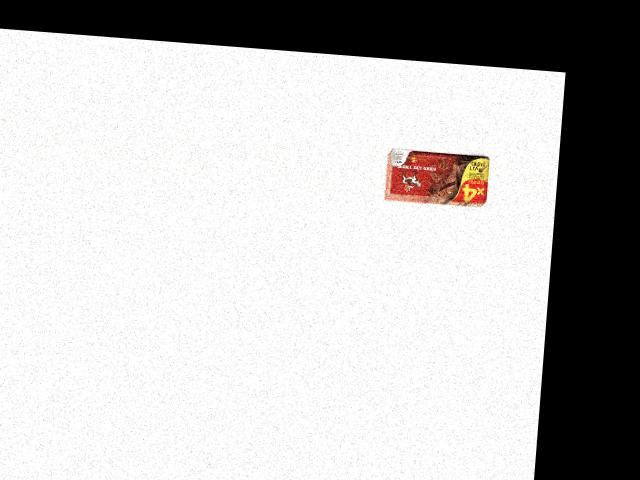chocolate: (385, 145, 491, 207)
